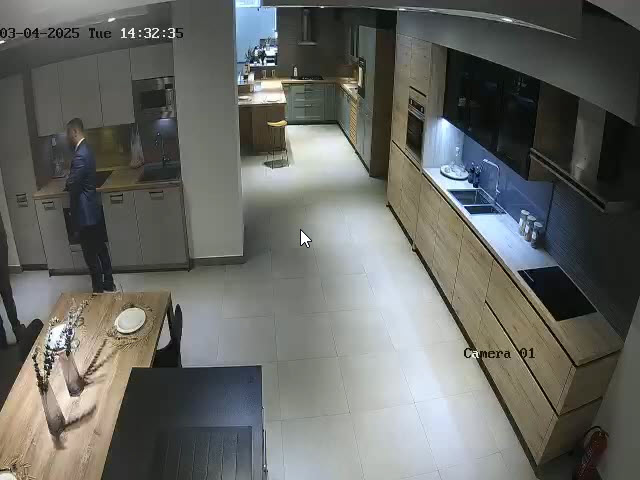employee: (62, 117, 117, 297), (0, 210, 43, 352)
